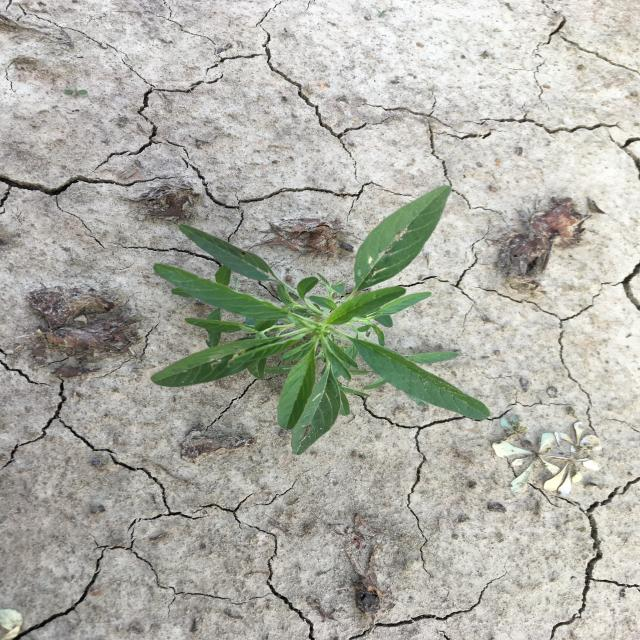Carpetweed: (491, 412, 611, 500)
Waterhemp: (148, 184, 492, 457)
